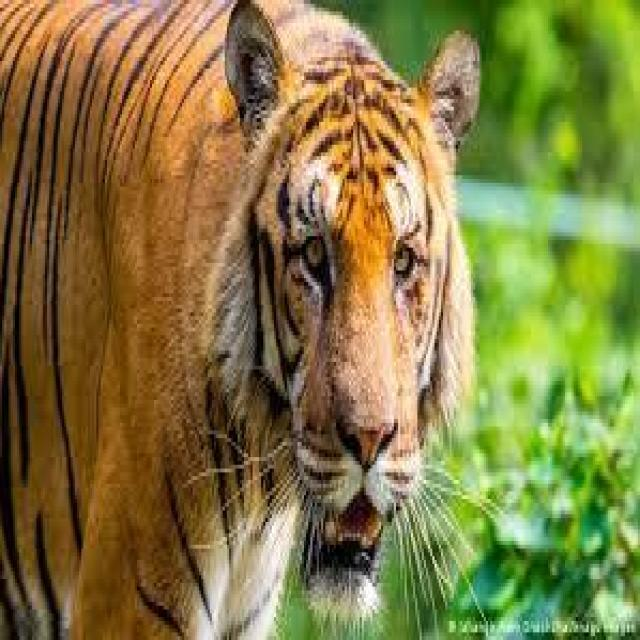Tiger: (8, 7, 481, 640)
